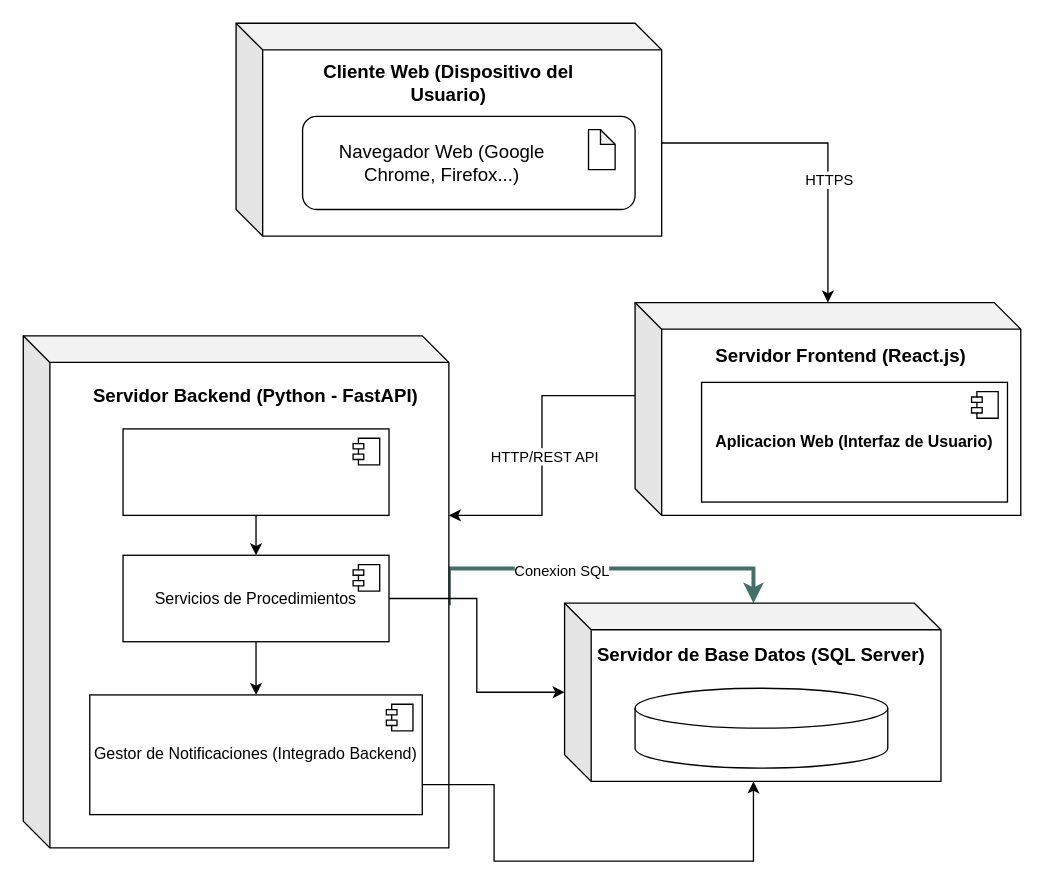
Image size: 1044x895. Some labels were removed from this diagram. Each missing label, with the box of its shape:
API REST (Logica de Negocio): (122, 428, 389, 515)
Base de Datos del Sistema: (634, 687, 888, 768)
